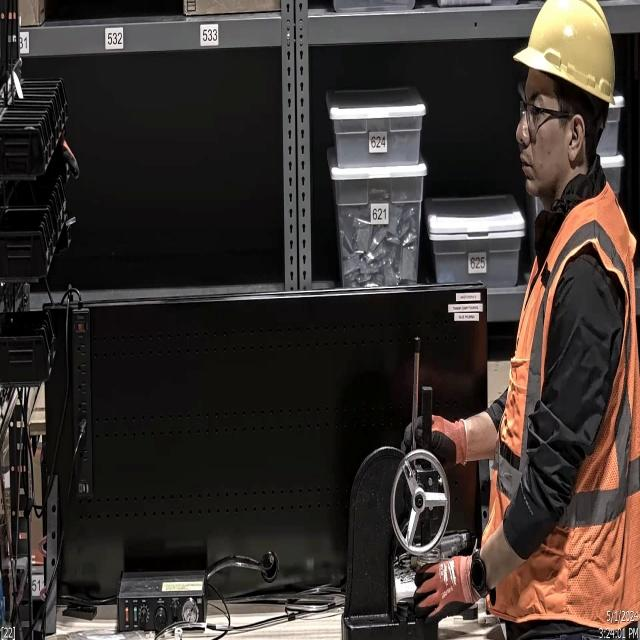construction-gloves: (410, 552, 491, 624), (398, 410, 464, 470)
